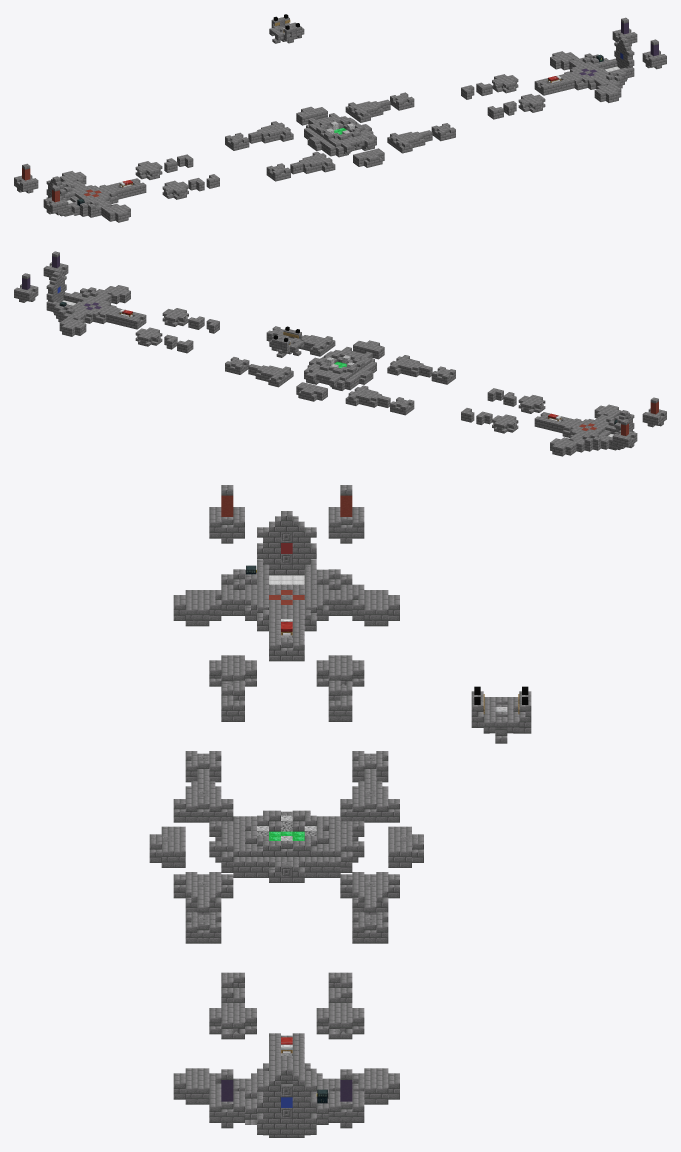
Rendered from minecraft.obj.
3 renders of one model, top to bottom at view 1: azimuth 30°, elevation 25°; view 2: azimuth 150°, elevation 25°; view 3: azimuth 270°, elevation 25°, orthographic. The views are drawn at different scales.
Size of the model in its own units: 119 by 15.52 by 32.
